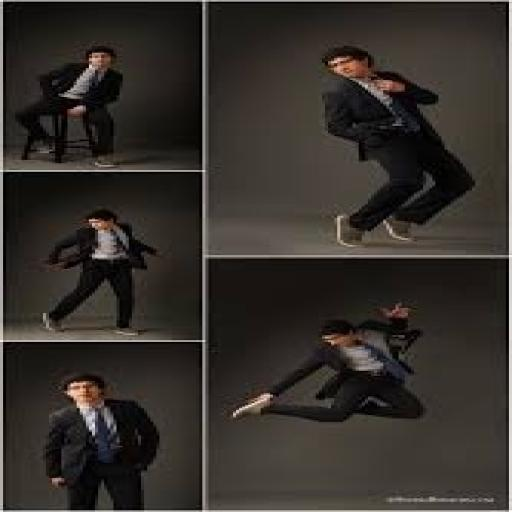dancing: (316, 44, 478, 250), (227, 300, 429, 426), (40, 371, 165, 510), (36, 208, 166, 338), (15, 44, 129, 168)
